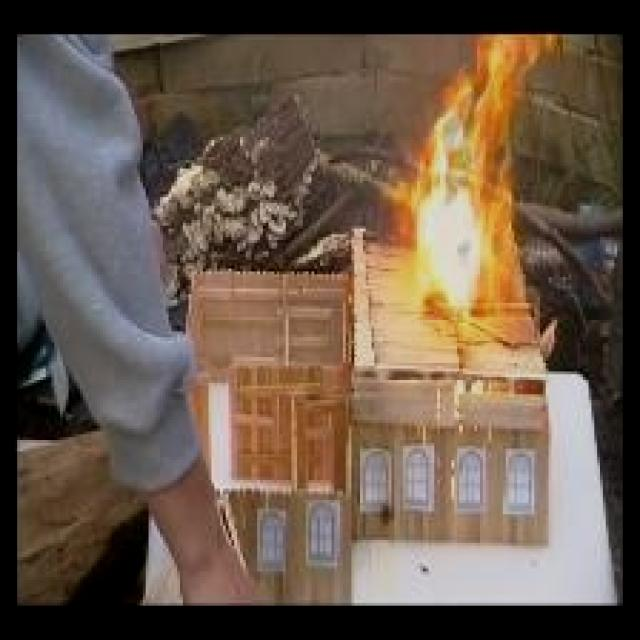fire: (386, 34, 560, 328)
